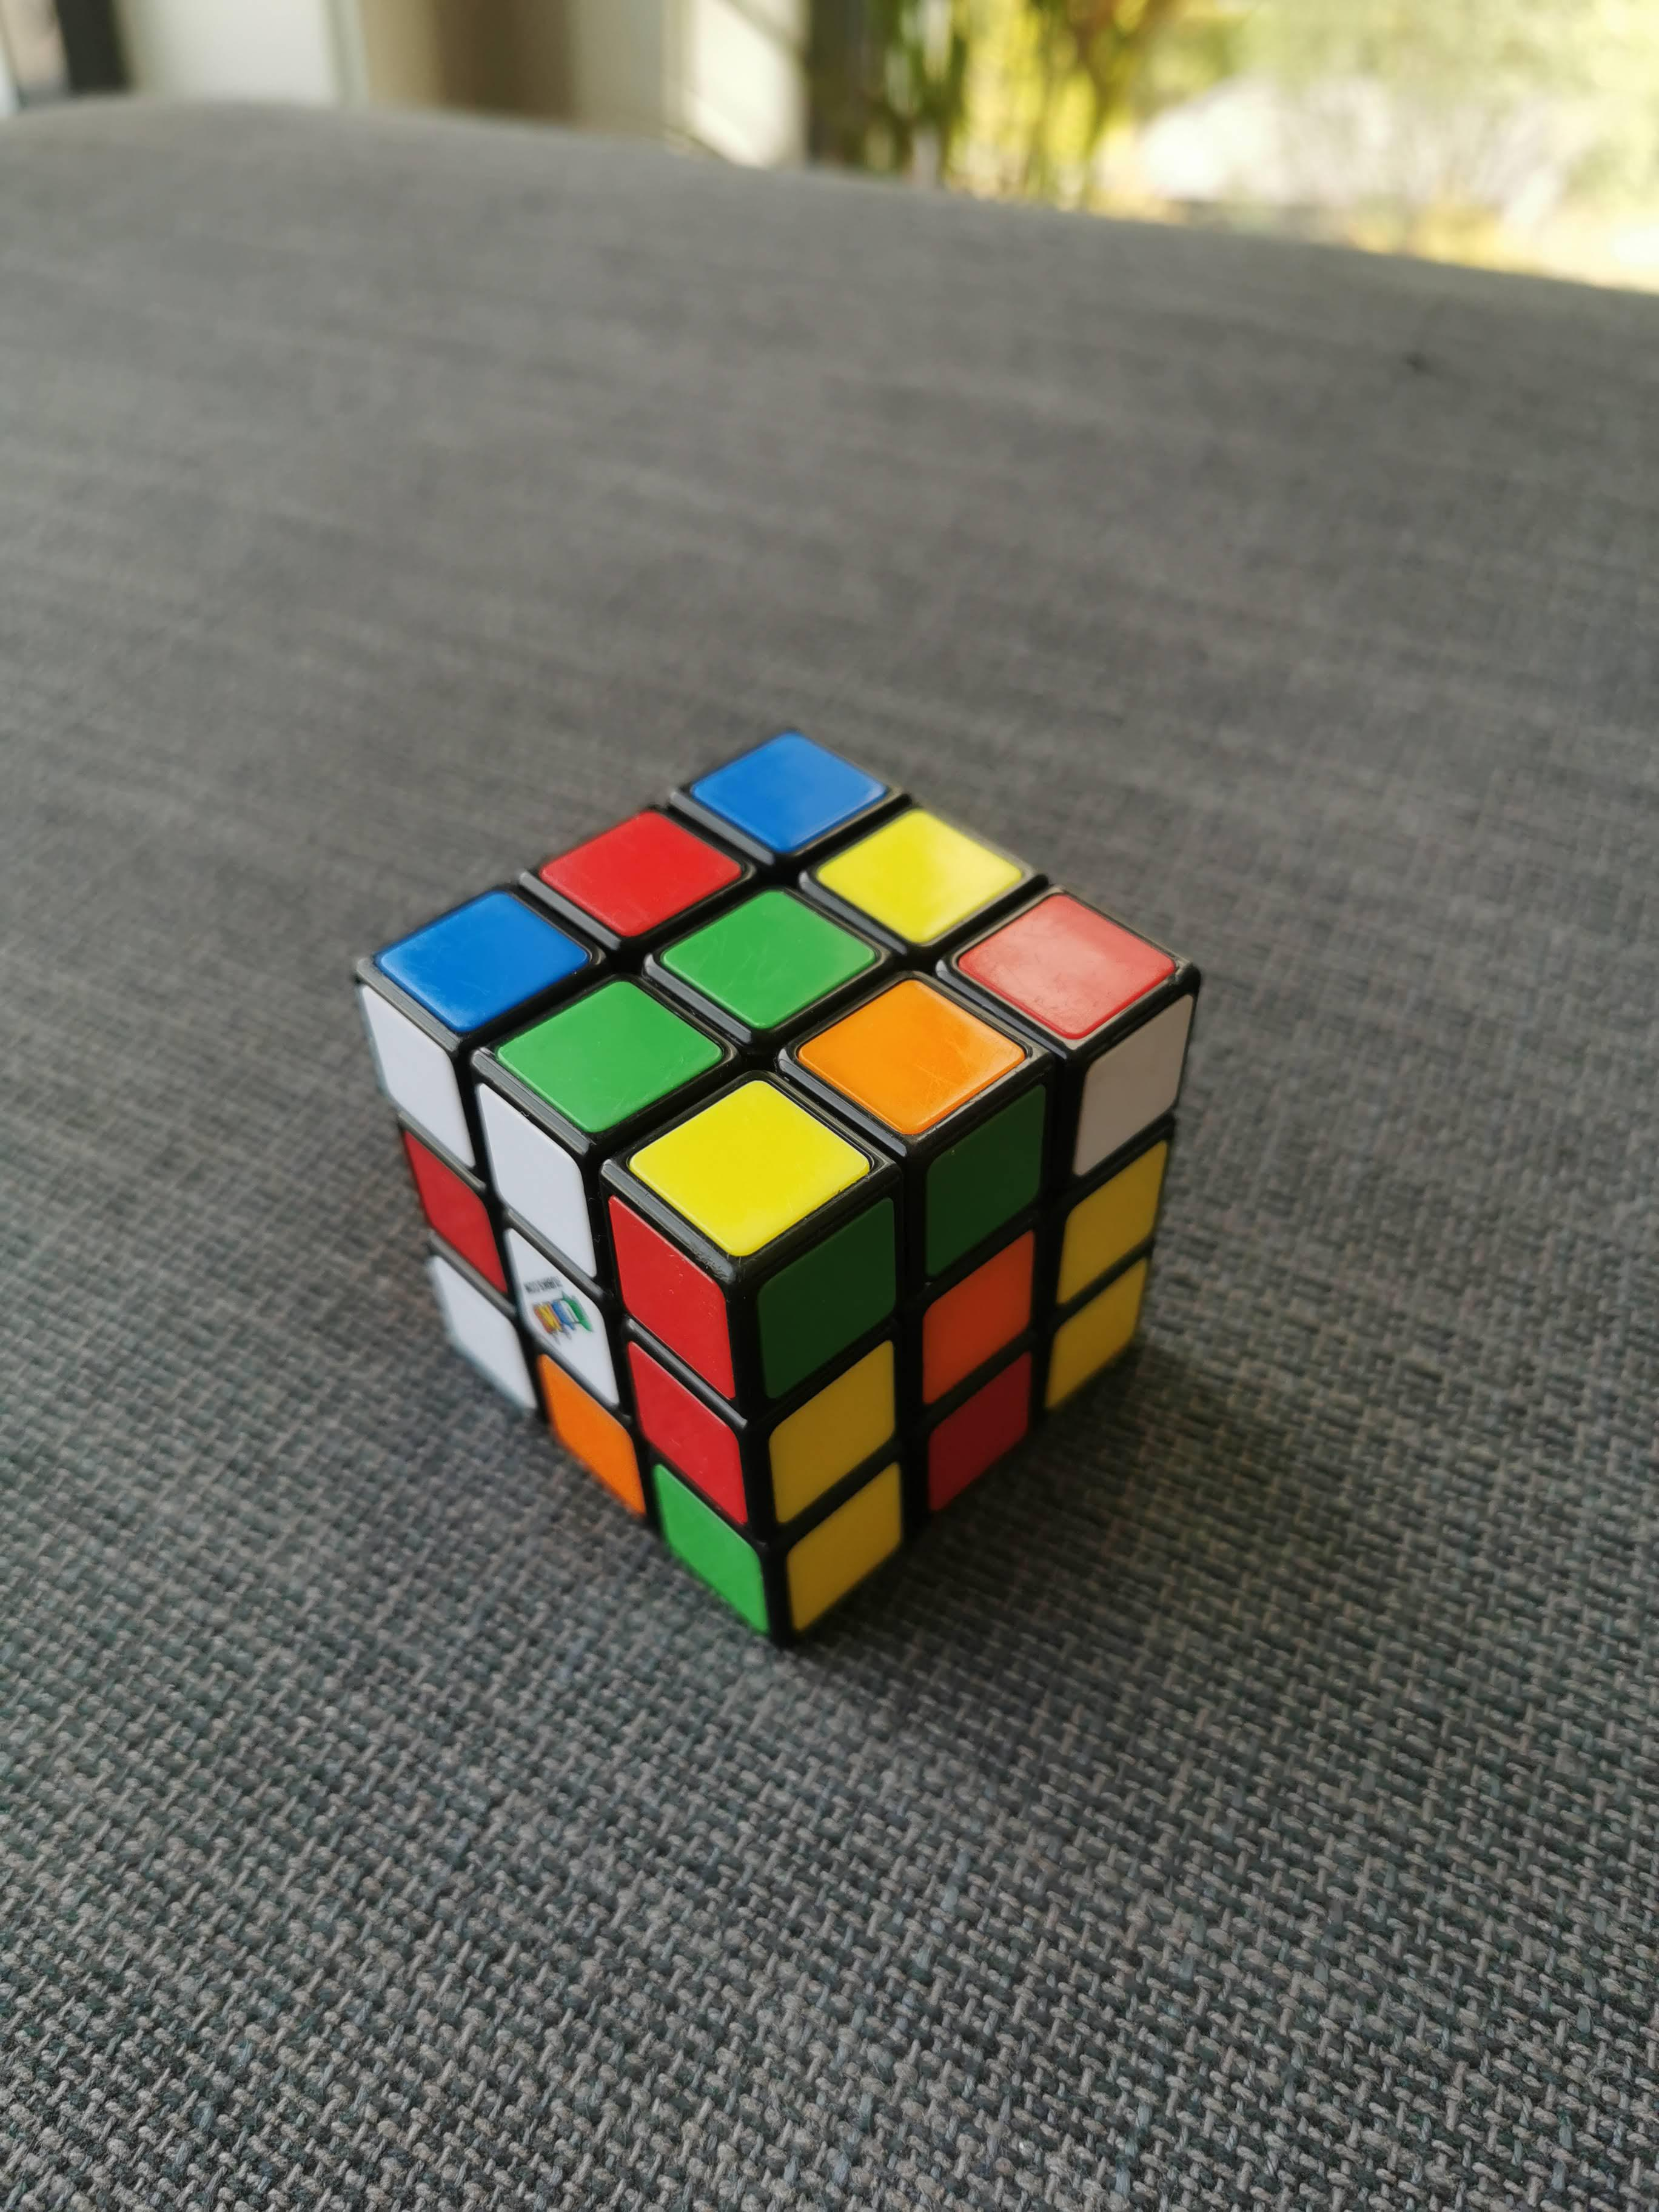cube: (356, 721, 1206, 1658)
